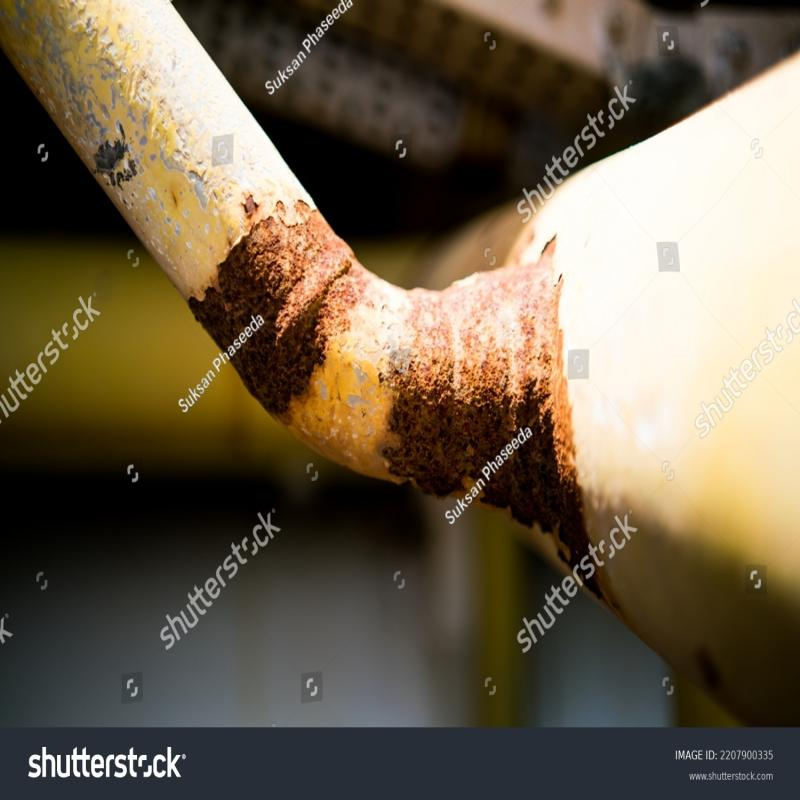corrosion: (393, 280, 580, 528), (198, 209, 382, 381)
